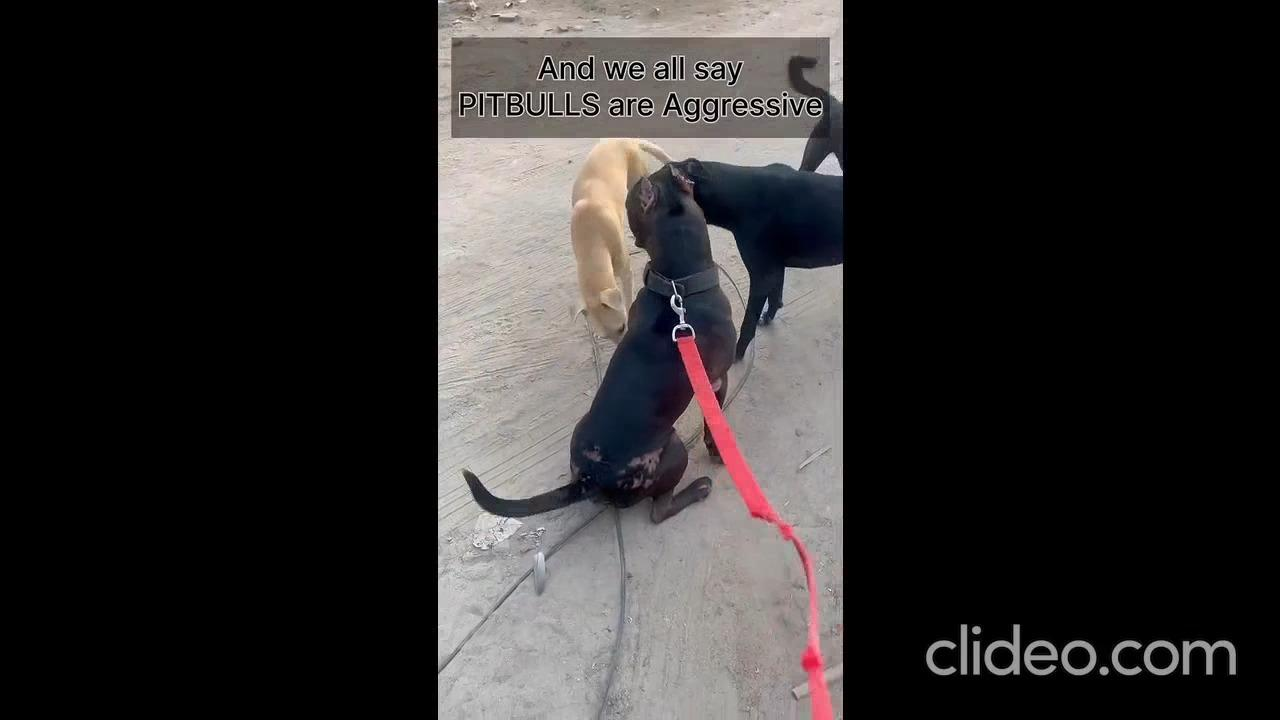dog: (696, 154, 845, 356), (553, 120, 638, 343)
